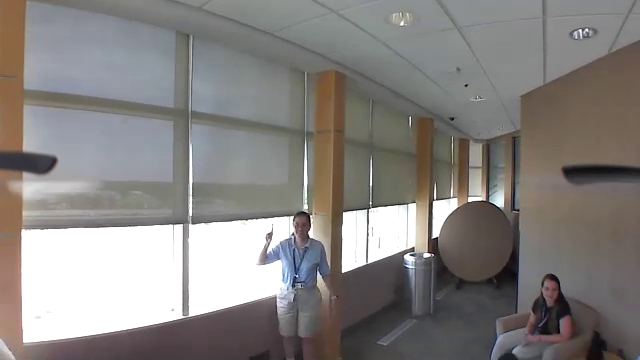up: (263, 222, 276, 246)
